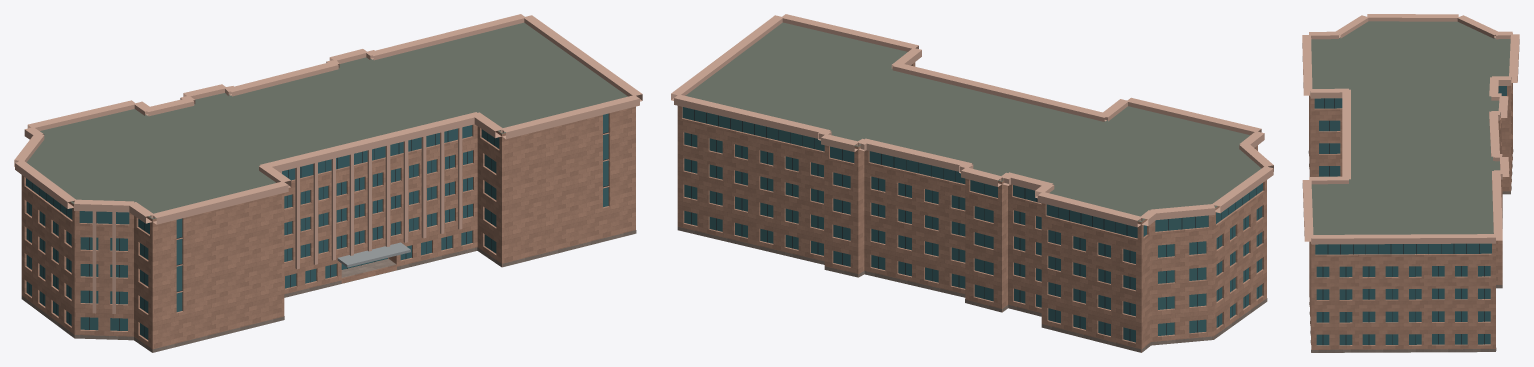
The picture shows the model from 3 angles, left to right: view 1: azimuth 30°, elevation 25°; view 2: azimuth 150°, elevation 25°; view 3: azimuth 270°, elevation 25°; orthographic projection. The views are drawn at different scales.
Parts seen in each view (by area): view 1: neoRenaissance__wall, neoRenaissance__roof, neoRenaissance__trim, neoRenaissance__glass, neoRenaissance__base, neoRenaissance__frame, neoRenaissance__canopy; view 2: neoRenaissance__wall, neoRenaissance__roof, neoRenaissance__glass, neoRenaissance__trim, neoRenaissance__base, neoRenaissance__frame; view 3: neoRenaissance__roof, neoRenaissance__wall, neoRenaissance__trim, neoRenaissance__glass, neoRenaissance__base, neoRenaissance__frame.
Boxes of the visible parts, x1,y1,x2,y2 form: neoRenaissance__wall: (21,106,635,352); neoRenaissance__roof: (26,22,627,283); neoRenaissance__trim: (14,14,642,313); neoRenaissance__glass: (26,113,608,339); neoRenaissance__base: (21,230,636,352); neoRenaissance__frame: (29,131,608,337); neoRenaissance__canopy: (337,242,410,267); neoRenaissance__wall: (677,62,1266,352); neoRenaissance__roof: (685,22,1261,221); neoRenaissance__glass: (682,107,1262,342); neoRenaissance__trim: (671,14,1273,227); neoRenaissance__base: (677,227,1267,352); neoRenaissance__frame: (691,109,1258,340); neoRenaissance__roof: (1310,21,1511,352); neoRenaissance__wall: (1309,78,1512,349); neoRenaissance__trim: (1302,14,1519,244); neoRenaissance__glass: (1314,86,1506,345); neoRenaissance__base: (1308,149,1513,352); neoRenaissance__frame: (1322,98,1484,344).
Size of the model in its own units: 78.66 by 19.12 by 32.16.
8 materials, 2 textured.
